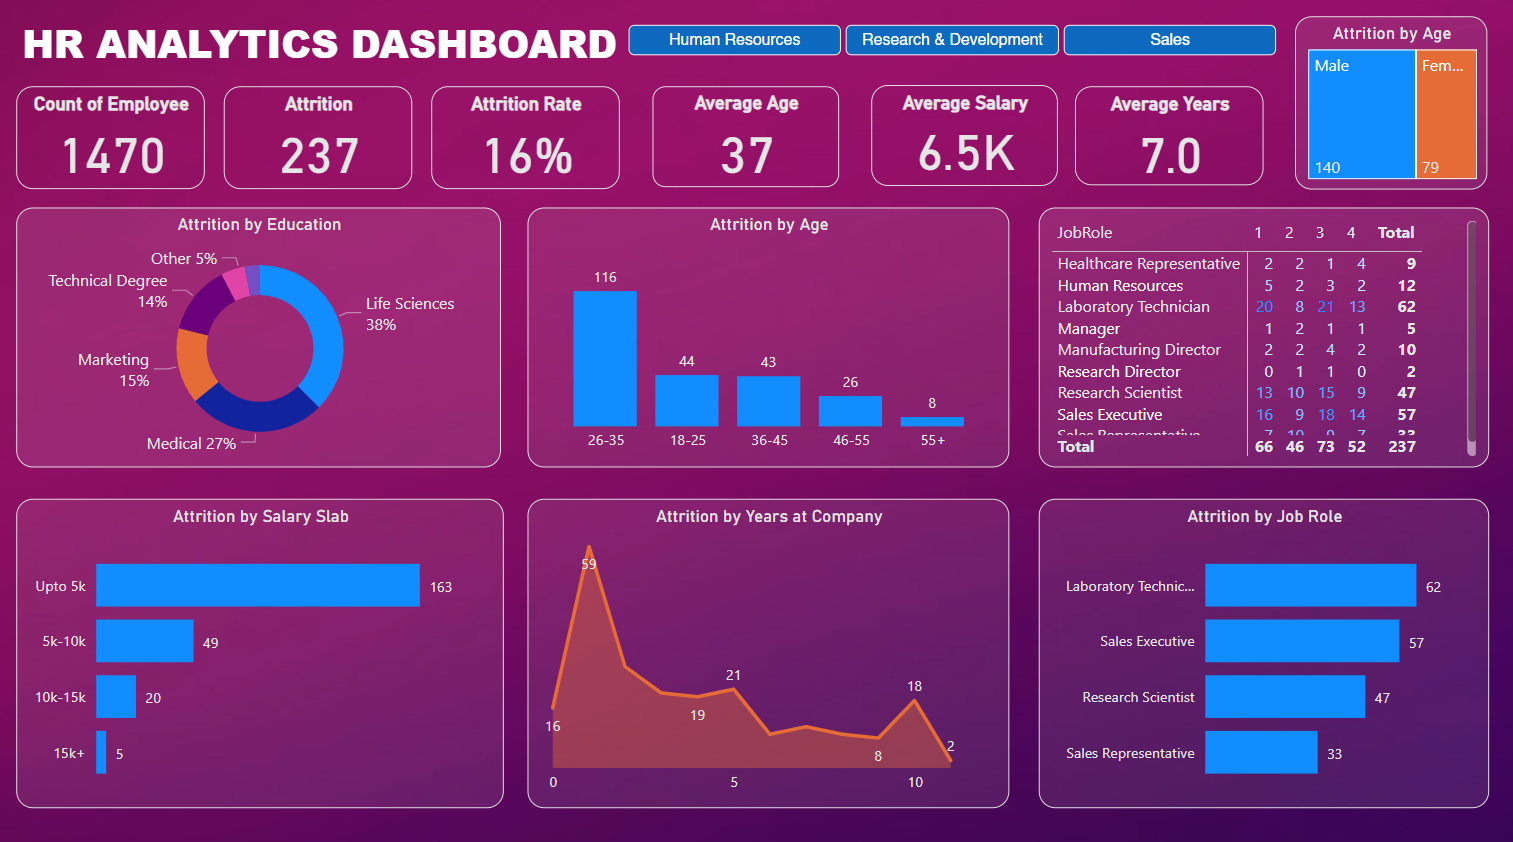

This screenshot's page, from the dashboard's own definition file:
{"tool":"powerbi","page":{"name":"Page 1","canvas":[1280,720],"ordinal":0},"visuals":[{"type":"card","title":"Count of Employee","fields":{"Values":["CountNonNull(HR_Analytics.EmpID)"]},"box":[17.6,76.8,158.5,86.4],"z":0},{"type":"card","title":"Attrition","fields":{"Values":["Sum(HR_Analytics.AttritionCount)"]},"box":[192.1,76.8,158.5,86.4],"z":1000},{"type":"card","title":"Attrition Rate","fields":{"Values":["HR_Analytics.AttritionRate"]},"box":[366.6,76.8,158.5,86.4],"z":2000},{"type":"card","title":"Average Age","fields":{"Values":["Avg(HR_Analytics.Age)"]},"box":[552.3,76.8,156.9,84.8],"z":3000},{"type":"card","title":"Average Salary","fields":{"Values":["Avg(HR_Analytics.MonthlyIncome)"]},"box":[736.4,75.2,156.9,84.8],"z":4000},{"type":"card","title":"Average Years","fields":{"Values":["Avg(HR_Analytics.YearsAtCompany)"]},"box":[907.7,76.8,158.5,83.2],"z":5000},{"type":"donutChart","title":"Attrition by Education","fields":{"Y":["Sum(HR_Analytics.AttritionCount)"],"Category":["HR_Analytics.EducationField"]},"box":[36.8,179.3,408.2,217.7],"z":6000},{"type":"columnChart","title":"Attrition by Age","fields":{"Category":["HR_Analytics.AgeGroup"],"Y":["Sum(HR_Analytics.AttritionCount)"]},"box":[464.2,179.3,405,217.7],"z":7000},{"type":"pivotTable","fields":{"Rows":["HR_Analytics.JobRole"],"Columns":["HR_Analytics.JobSatisfaction"],"Values":["Sum(HR_Analytics.AttritionCount)"]},"box":[886.9,179.3,377.8,217.7],"z":8000},{"type":"barChart","title":"Attrition by Salary Slab","fields":{"Category":["HR_Analytics.SalarySlab"],"Y":["Sum(HR_Analytics.AttritionCount)"]},"box":[36.8,422.6,409.8,260.9],"z":9000},{"type":"barChart","title":"Attrition by Job Role","fields":{"Category":["HR_Analytics.JobRole"],"Y":["Sum(HR_Analytics.AttritionCount)"]},"box":[886.9,422.6,377.8,260.9],"z":10000},{"type":"areaChart","title":"Attrition by Years at Company","fields":{"Category":["HR_Analytics.YearsAtCompany"],"Y":["Sum(HR_Analytics.AttritionCount)"]},"box":[464.2,422.6,405,260.9],"z":11000},{"type":"treemap","title":"Attrition by Age","fields":{"Group":["HR_Analytics.Gender"],"Values":["Sum(HR_Analytics.AttritionCount)"]},"box":[1091.8,17.6,161.7,145.7],"z":12000},{"type":"slicer","fields":{"Values":["HR_Analytics.Department"]},"box":[509.1,12.8,574.7,44.8],"z":13000},{"type":"textbox","box":[17.6,12.8,534.7,64],"z":14000}]}

Visuals, with their boxes in screenshot pixels (x1, y1, x2, y2), scaled from the page's 1280x720 canvas onto the 1513x842 screenshot:
"Count of Employee" card: bbox=[21, 90, 208, 191]
"Attrition" card: bbox=[227, 90, 414, 191]
"Attrition Rate" card: bbox=[433, 90, 621, 191]
"Average Age" card: bbox=[653, 90, 838, 189]
"Average Salary" card: bbox=[870, 88, 1056, 187]
"Average Years" card: bbox=[1073, 90, 1260, 187]
"Attrition by Education" donutChart: bbox=[43, 210, 526, 464]
"Attrition by Age" columnChart: bbox=[549, 210, 1027, 464]
pivotTable - HR_Analytics.JobRole x HR_Analytics.JobSatisfaction: bbox=[1048, 210, 1495, 464]
"Attrition by Salary Slab" barChart: bbox=[43, 494, 528, 799]
"Attrition by Job Role" barChart: bbox=[1048, 494, 1495, 799]
"Attrition by Years at Company" areaChart: bbox=[549, 494, 1027, 799]
"Attrition by Age" treemap: bbox=[1291, 21, 1482, 191]
slicer - HR_Analytics.Department: bbox=[602, 15, 1281, 67]
textbox: bbox=[21, 15, 653, 90]
